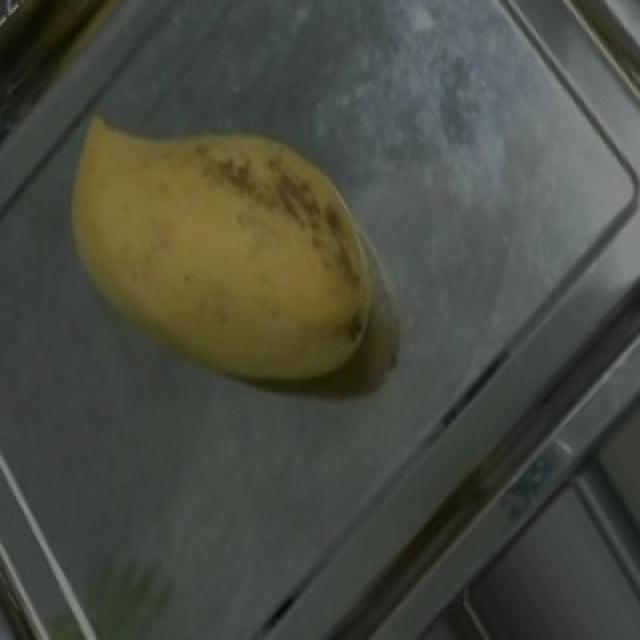fruit: (14, 74, 440, 459)
